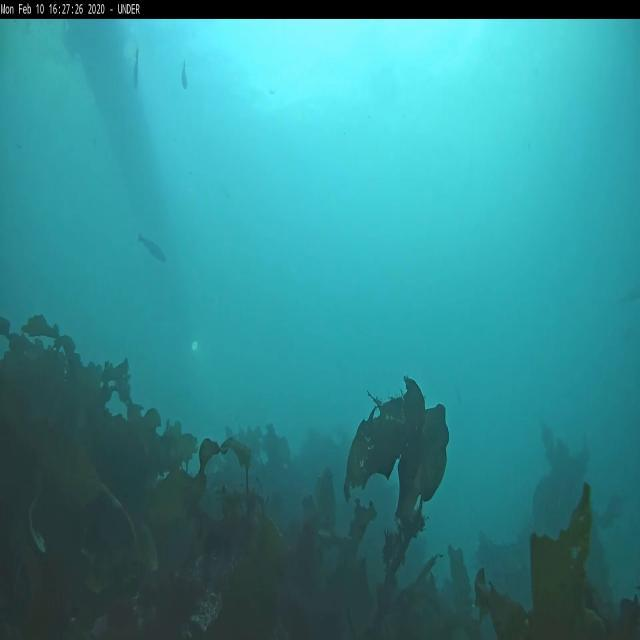fish: (136, 230, 166, 262), (132, 48, 140, 90), (182, 59, 188, 92)
